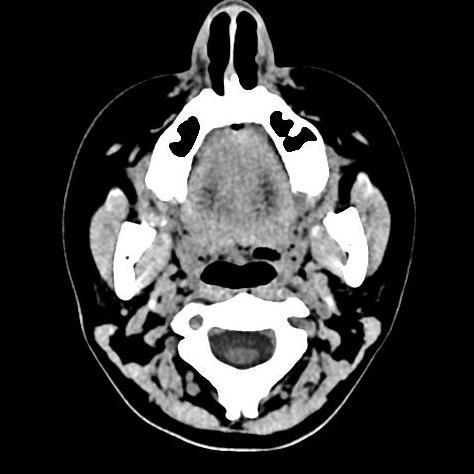Normal_Brain: (1, 1, 468, 474)
